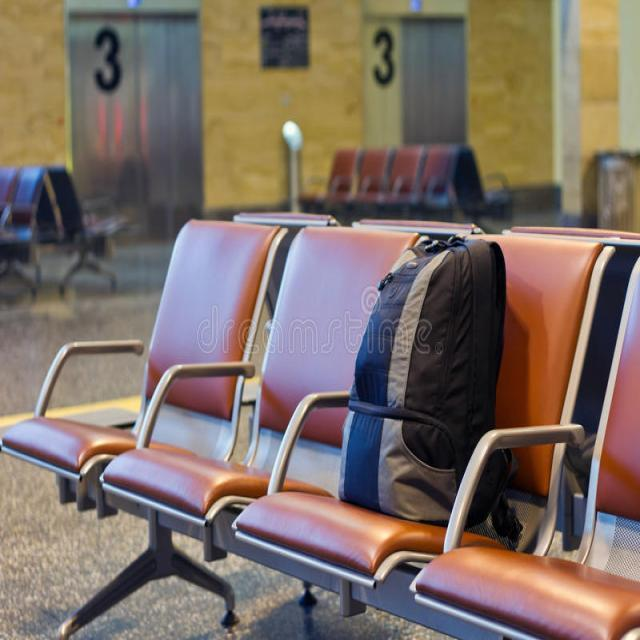Backpacks: (332, 225, 511, 530)
